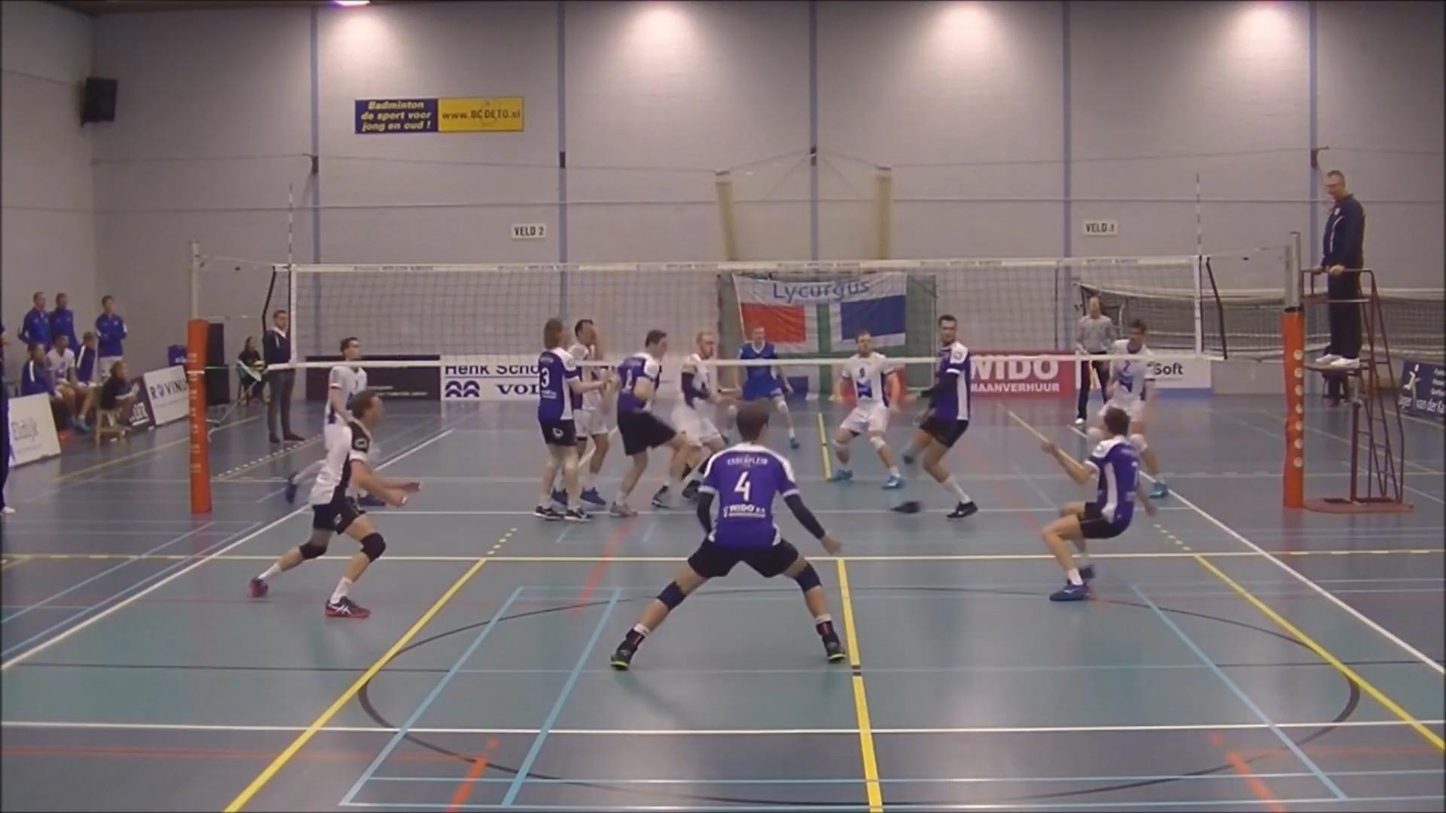difesa: (1036, 409, 1170, 619)
